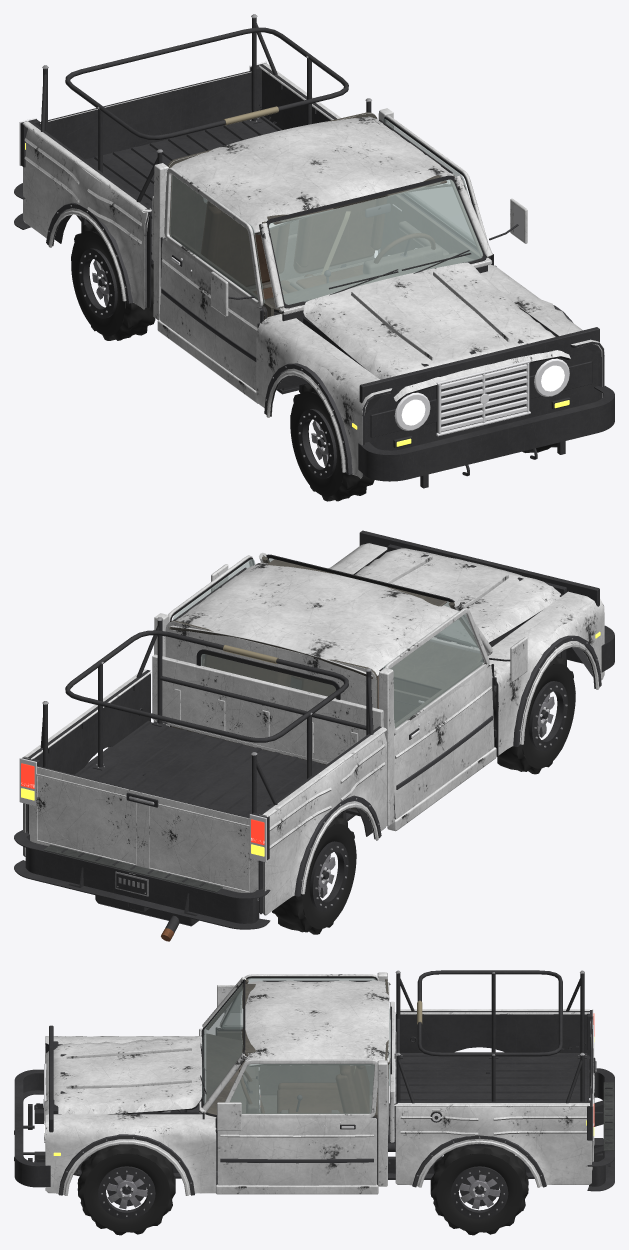
Rendered from dev_t4.glb.
3 views of the same model, one above another, from view 1: azimuth 30°, elevation 25°; view 2: azimuth 150°, elevation 25°; view 3: azimuth 270°, elevation 25° (orthographic). The views are drawn at different scales.
Visible parts, largest first — view 1: body, panel_hood, panel_door_R, panel_fender_R, panel_bumper_F, panel_tailgate, wheel_RR, wheel_FR, panel_door_L, panel_fender_L; view 2: body, panel_tailgate, panel_door_R, panel_bumper_R, panel_hood, panel_fender_R, wheel_RR, wheel_FR, panel_door_L, panel_fender_L; view 3: body, panel_door_L, panel_hood, panel_fender_L, wheel_FL, wheel_RL, panel_bumper_F, panel_bumper_R, panel_door_R, panel_fender_R, panel_tailgate.
Part boxes in pixels (left/top/right/bottom): body: left=19, top=14, right=599, bottom=488; panel_hood: left=303, top=262, right=570, bottom=401; panel_door_R: left=159, top=167, right=267, bottom=390; panel_fender_R: left=256, top=314, right=392, bottom=478; panel_bumper_F: left=358, top=386, right=614, bottom=481; panel_tailgate: left=40, top=71, right=276, bottom=159; wheel_RR: left=71, top=223, right=155, bottom=340; wheel_FR: left=290, top=384, right=374, bottom=501; panel_door_L: left=382, top=115, right=527, bottom=266; panel_fender_L: left=480, top=264, right=604, bottom=400; body: left=19, top=530, right=599, bottom=941; panel_tailgate: left=29, top=766, right=259, bottom=900; panel_door_R: left=383, top=608, right=527, bottom=819; panel_bumper_R: left=14, top=830, right=270, bottom=929; panel_hood: left=355, top=548, right=560, bottom=643; panel_fender_R: left=483, top=591, right=604, bottom=755; wheel_RR: left=272, top=816, right=356, bottom=934; wheel_FR: left=494, top=656, right=575, bottom=774; panel_door_L: left=168, top=555, right=255, bottom=726; panel_fender_L: left=328, top=543, right=387, bottom=574; body: left=14, top=970, right=610, bottom=1194; panel_door_L: left=215, top=1059, right=377, bottom=1185; panel_hood: left=45, top=1035, right=201, bottom=1122; panel_fender_L: left=45, top=1114, right=216, bottom=1195; wheel_FL: left=77, top=1144, right=175, bottom=1235; wheel_RL: left=430, top=1146, right=528, bottom=1235; panel_bumper_F: left=14, top=1069, right=50, bottom=1187; panel_bumper_R: left=587, top=1068, right=614, bottom=1191; panel_door_R: left=217, top=974, right=378, bottom=1031; panel_fender_R: left=45, top=1036, right=198, bottom=1053; panel_tailgate: left=561, top=1019, right=596, bottom=1170.
Bounding box in the file's own units: 2.87 × 2.03 × 6.13.
19 materials, 9 textured.
